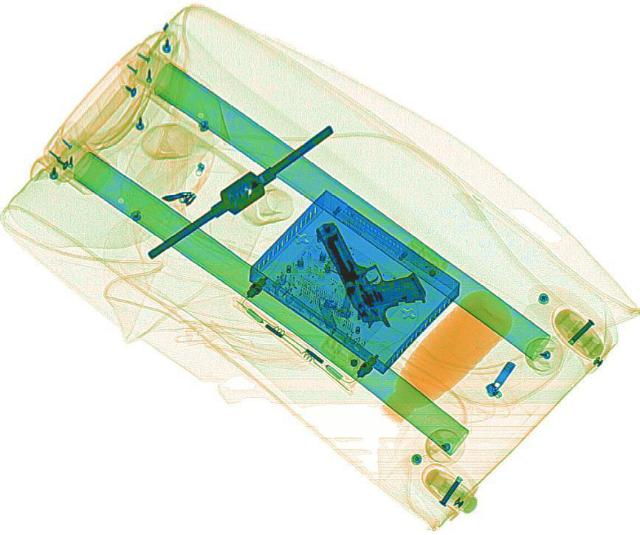Gun: (309, 206, 437, 333)
